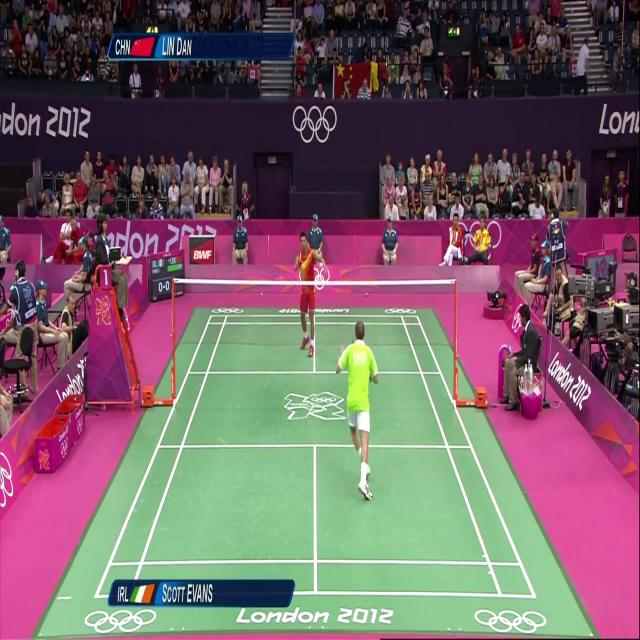Net: (174, 279, 458, 349)
Player1: (339, 307, 389, 506)
Player2: (289, 220, 322, 352)
Shuttlecock: (316, 256, 324, 272)
